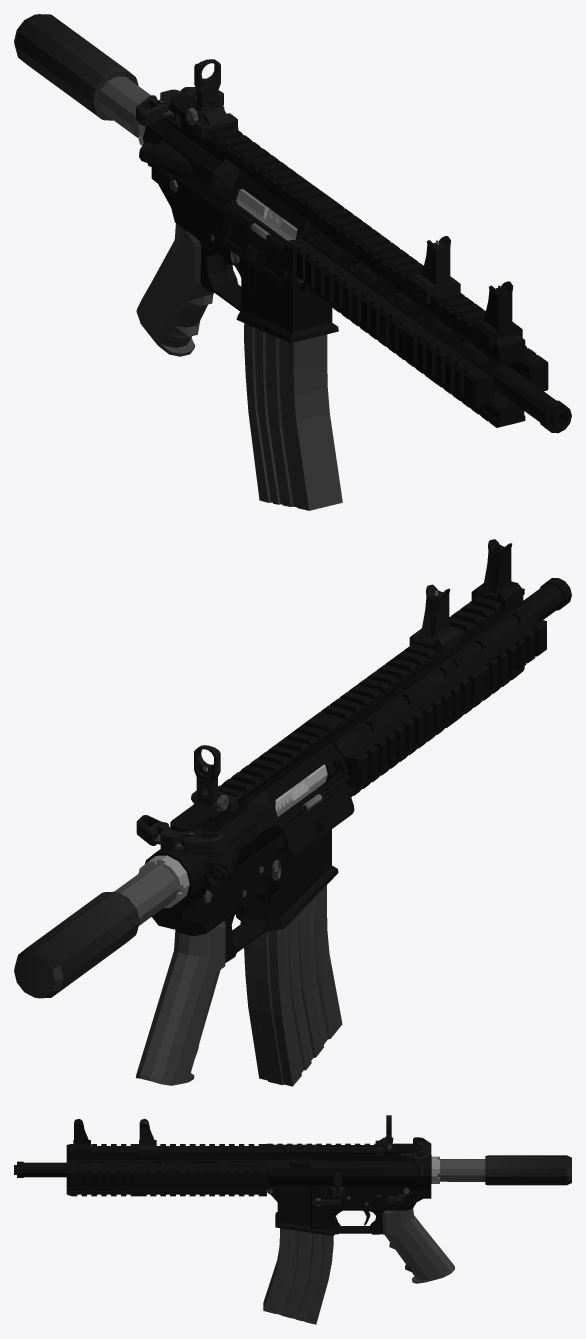
Rendered from Assult Rifle_1.fbx.
3 renders of one model, top to bottom at view 1: azimuth 30°, elevation 25°; view 2: azimuth 150°, elevation 25°; view 3: azimuth 270°, elevation 25°, orthographic. The views are drawn at different scales.
Parts seen in each view (by area): view 1: Receiver, Long Barrel, Magazine, Stock, Short Barrel, Rear Sight, Short Barrel Front Sight, Long Barrel Front Sight, Charging Handle, Bolt; view 2: Receiver, Long Barrel, Magazine, Short Barrel, Stock, Charging Handle, Long Barrel Front Sight, Short Barrel Front Sight, Rear Sight, Bolt; view 3: Receiver, Long Barrel, Short Barrel, Magazine, Stock, Short Barrel Front Sight, Long Barrel Front Sight, Charging Handle, Rear Sight.
Part boxes in pixels (left/top/right/bottom): Receiver: left=97, top=76, right=338, bottom=356; Long Barrel: left=284, top=199, right=571, bottom=433; Magazine: left=244, top=323, right=342, bottom=510; Stock: left=14, top=14, right=138, bottom=120; Short Barrel: left=285, top=215, right=484, bottom=383; Rear Sight: left=186, top=59, right=238, bottom=138; Short Barrel Front Sight: left=410, top=236, right=460, bottom=304; Long Barrel Front Sight: left=472, top=281, right=522, bottom=349; Charging Handle: left=136, top=87, right=223, bottom=126; Bolt: left=236, top=189, right=297, bottom=240; Receiver: left=114, top=718, right=354, bottom=1085; Long Barrel: left=312, top=578, right=571, bottom=796; Magazine: left=244, top=885, right=342, bottom=1086; Short Barrel: left=316, top=632, right=497, bottom=795; Stock: left=14, top=891, right=139, bottom=998; Charging Handle: left=136, top=815, right=224, bottom=854; Long Barrel Front Sight: left=471, top=539, right=521, bottom=612; Short Barrel Front Sight: left=409, top=584, right=459, bottom=657; Rear Sight: left=191, top=745, right=237, bottom=812; Bolt: left=275, top=764, right=327, bottom=816; Receiver: left=259, top=1143, right=485, bottom=1283; Long Barrel: left=14, top=1144, right=266, bottom=1196; Short Barrel: left=93, top=1144, right=266, bottom=1196; Magazine: left=263, top=1228, right=333, bottom=1324; Stock: left=485, top=1155, right=571, bottom=1185; Short Barrel Front Sight: left=139, top=1119, right=156, bottom=1156; Long Barrel Front Sight: left=73, top=1119, right=90, bottom=1156; Charging Handle: left=401, top=1137, right=431, bottom=1165; Rear Sight: left=375, top=1115, right=393, bottom=1155.
Size of the model in its own units: 8.67 by 37.73 by 93.43.
